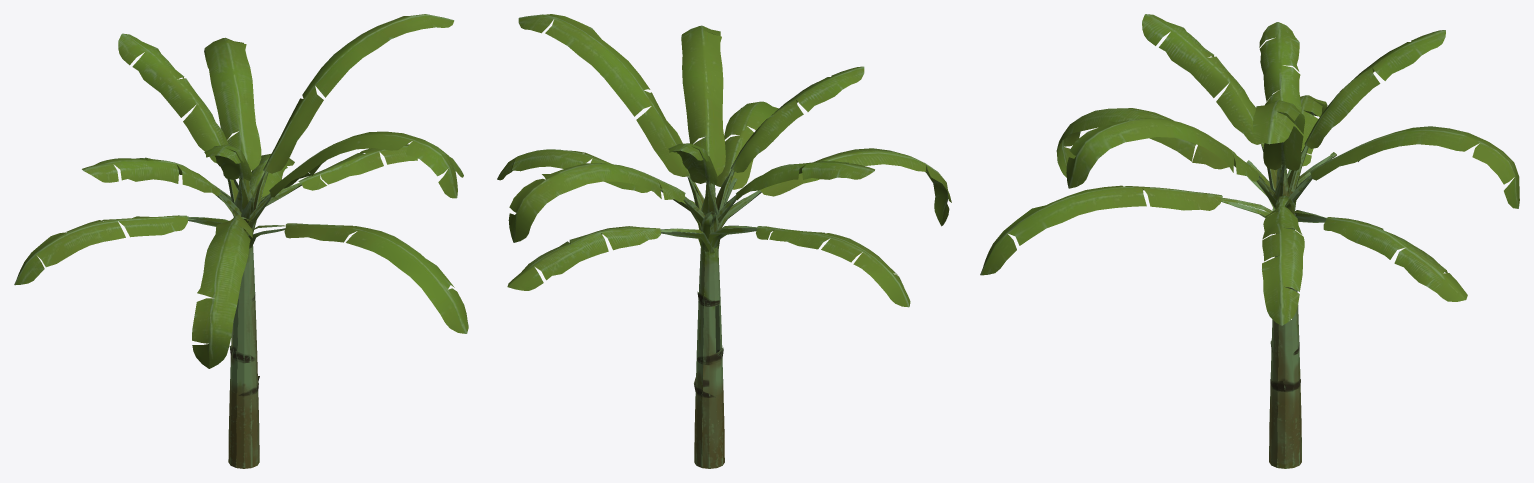
Rendered from banana_tree.gltf.
3 views of the same model, side by side, from view 1: azimuth 30°, elevation 25°; view 2: azimuth 150°, elevation 25°; view 3: azimuth 270°, elevation 25° (orthographic). The views are drawn at different scales.
Visible parts, largest first — view 1: banana_tree; view 2: banana_tree; view 3: banana_tree.
Boxes of the visible parts, x1,y1,x2,y2 form: banana_tree: (14,14,468,468); banana_tree: (497,14,951,468); banana_tree: (980,14,1519,468).
Size of the model in its own units: 5.61 by 5.05 by 5.68.
Materials: 1 (1 with a texture image).
